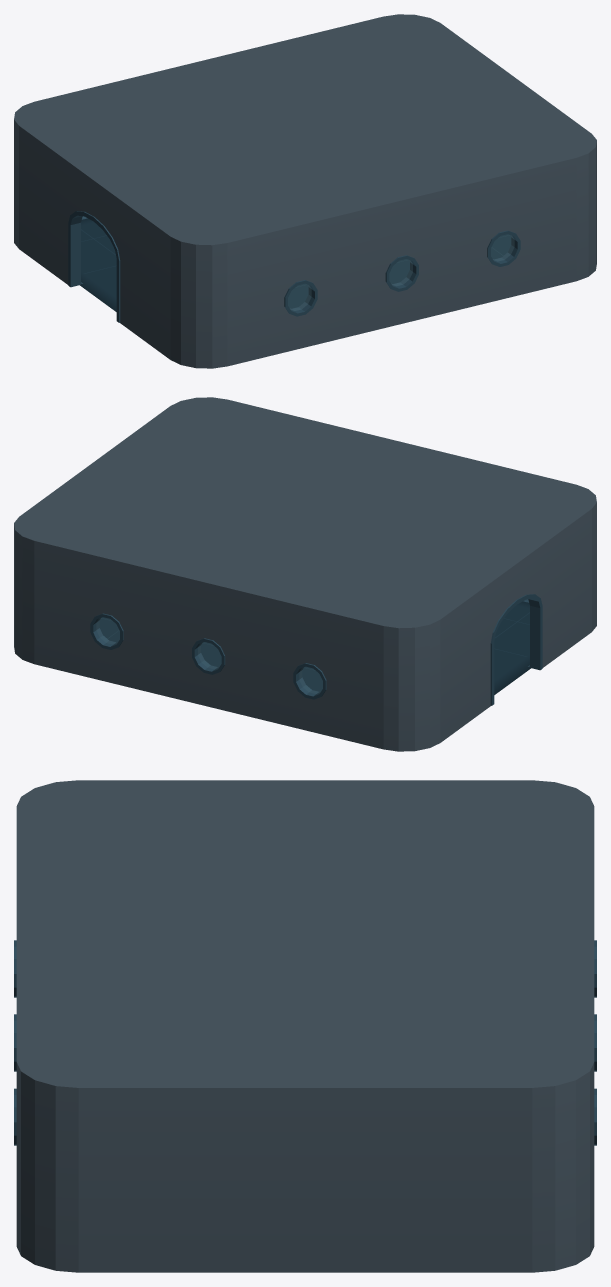
Rendered from sala_oficina.glb.
3 renders of one model, top to bottom at view 1: azimuth 30°, elevation 25°; view 2: azimuth 150°, elevation 25°; view 3: azimuth 270°, elevation 25°, orthographic. The views are drawn at different scales.
Visible parts, largest first — view 1: casco, paredes; view 2: casco, paredes; view 3: casco, paredes.
Boxes of the visible parts, x1,y1,x2,y2 form: casco: (14, 14, 596, 368); paredes: (68, 211, 520, 322); casco: (14, 397, 596, 751); paredes: (90, 594, 542, 705); casco: (16, 780, 594, 1272); paredes: (14, 940, 596, 1145).
Bounding box in the file's own units: 14.58 × 4.07 × 11.64.
